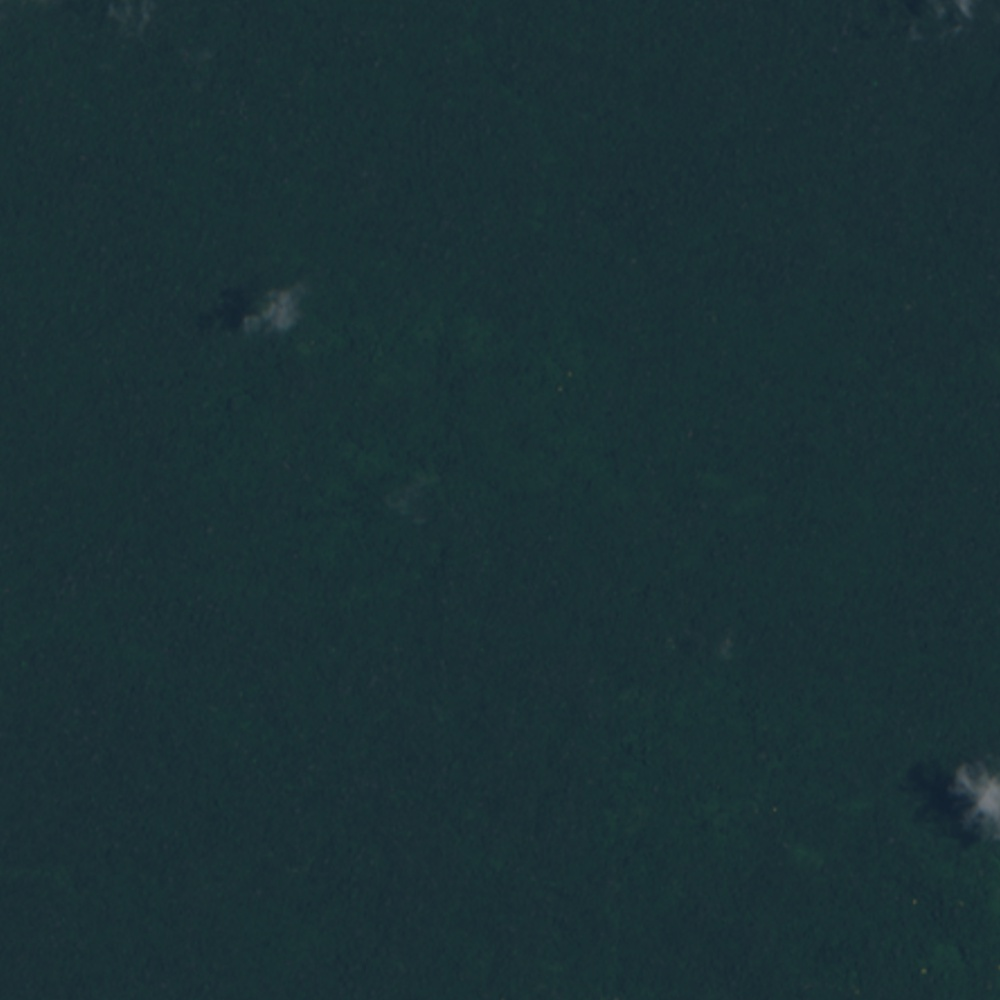illegal: (585, 701, 667, 772)
